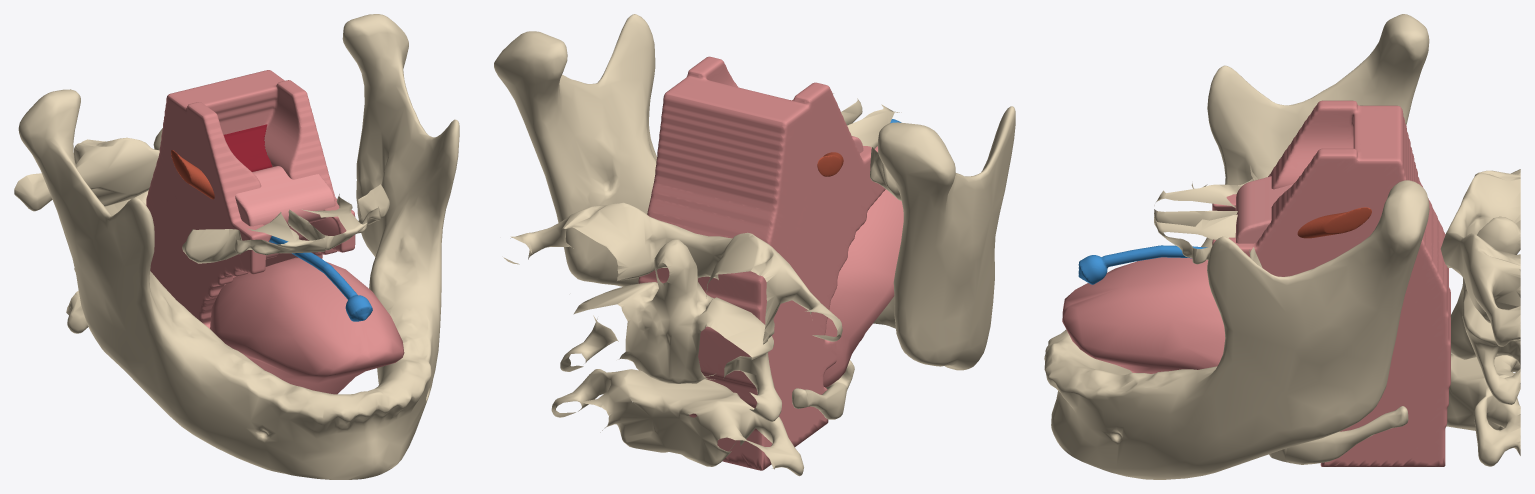
The model's file is sphincter-whole.glb.
The picture shows the model from 3 angles, left to right: view 1: azimuth 30°, elevation 25°; view 2: azimuth 150°, elevation 25°; view 3: azimuth 270°, elevation 25°; orthographic projection. The views are drawn at different scales.
Visible parts, largest first — view 1: bone (×5), mucosa, tongue, soft, air, flap, muscle; view 2: bone (×6), mucosa, tongue; view 3: bone (×7), mucosa, tongue, soft, air, muscle.
Part boxes in pixels (<box>): bone (×5): <box>14,14,459,479</box>; mucosa: <box>146,70,355,328</box>; tongue: <box>210,257,404,394</box>; soft: <box>235,166,335,258</box>; air: <box>269,236,372,321</box>; flap: <box>223,124,272,171</box>; muscle: <box>171,150,214,199</box>; bone (×6): <box>494,14,1015,476</box>; mucosa: <box>638,56,885,470</box>; tongue: <box>823,189,903,387</box>; bone (×7): <box>1044,14,1520,479</box>; mucosa: <box>1212,100,1450,466</box>; tongue: <box>1062,257,1225,373</box>; soft: <box>1235,176,1292,243</box>; air: <box>1078,245,1207,284</box>; muscle: <box>1297,207,1371,238</box>.
Size of the model in its own units: 106 by 81.1 by 104.
